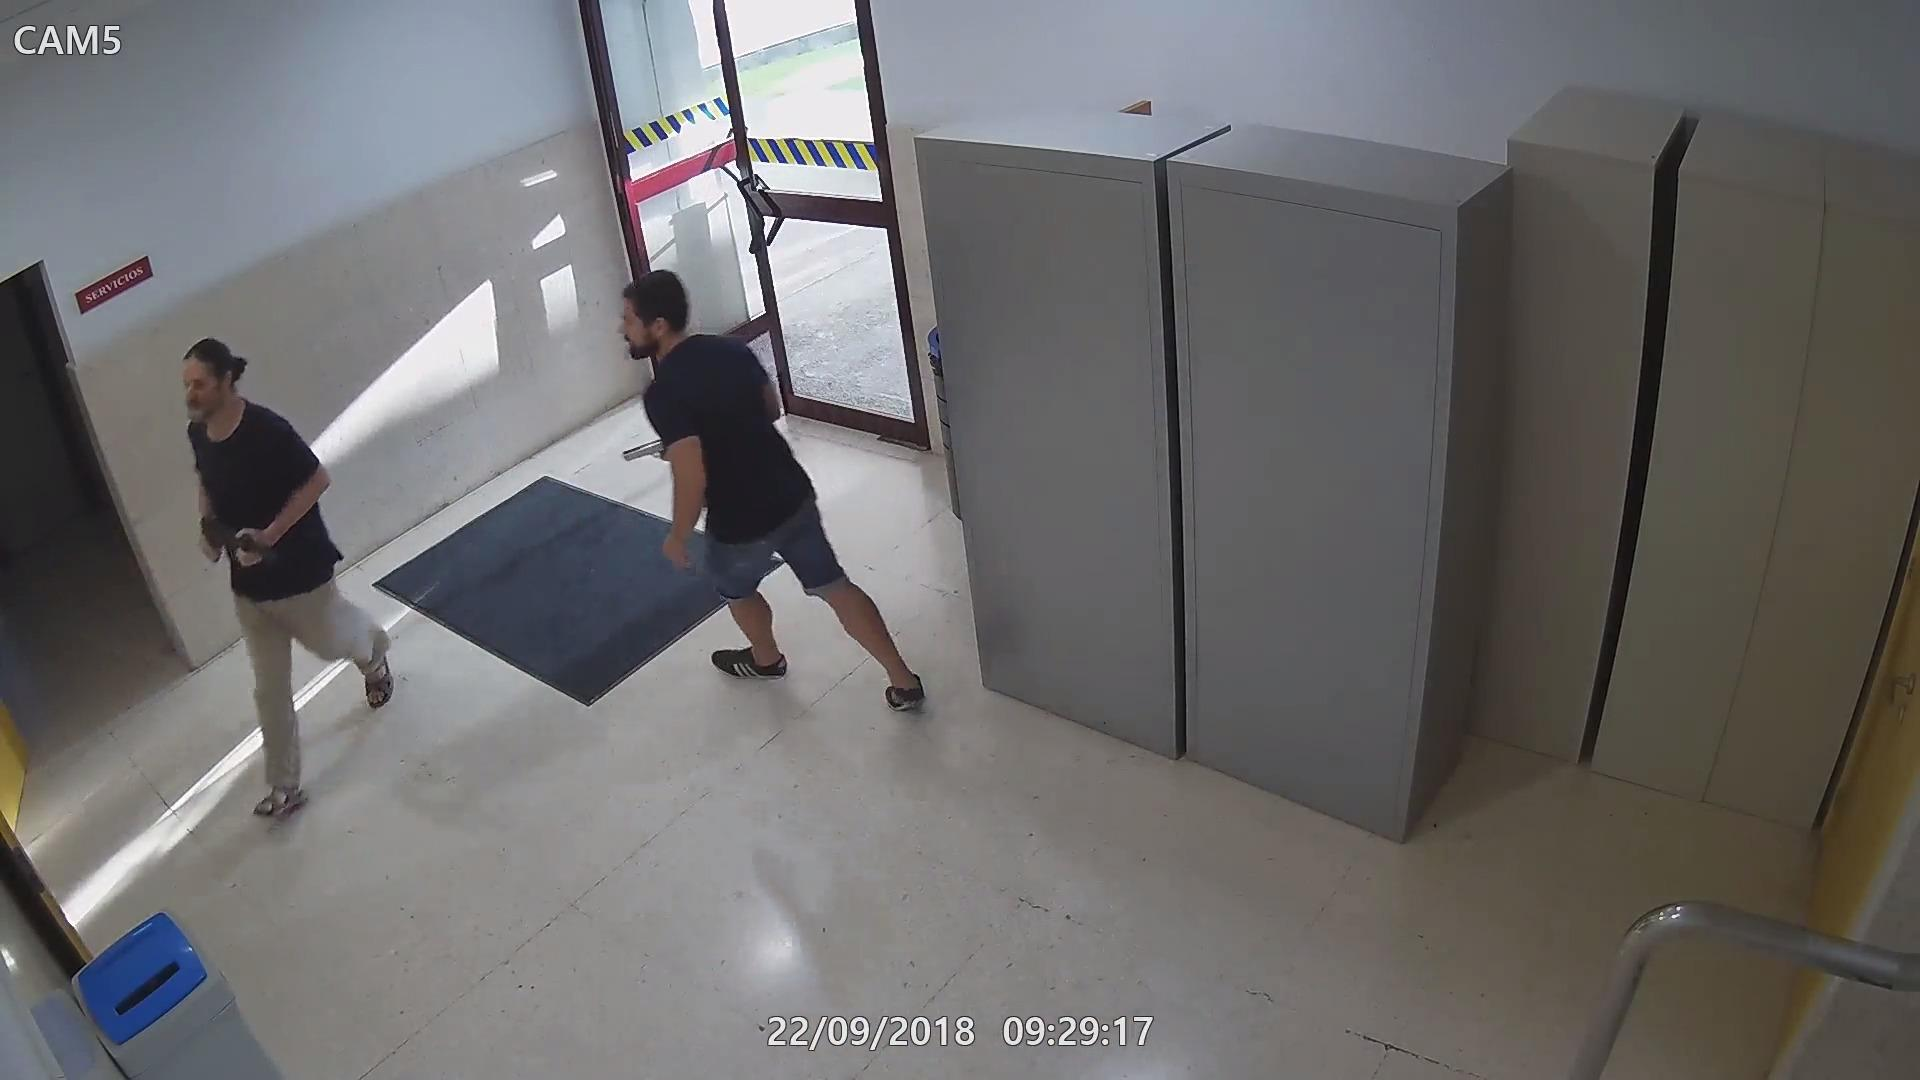Handgun: (615, 430, 676, 475)
